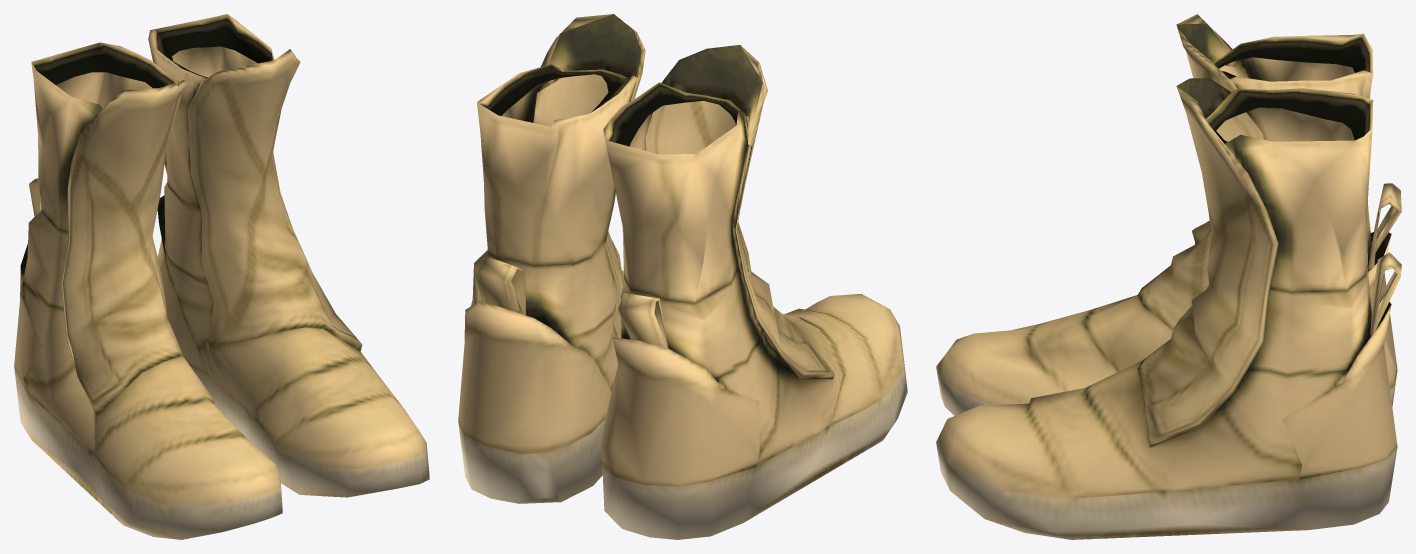
The model's file is ClothBoots_Ground.fbx.
3 renders of one model, left to right at view 1: azimuth 30°, elevation 25°; view 2: azimuth 150°, elevation 25°; view 3: azimuth 270°, elevation 25°, orthographic. The views are drawn at different scales.
Parts seen in each view (by area): view 1: ClothBoots; view 2: ClothBoots; view 3: ClothBoots.
Boxes of the visible parts, x1,y1,x2,y2 form: ClothBoots: (14, 14, 429, 539); ClothBoots: (458, 14, 907, 539); ClothBoots: (936, 14, 1401, 539).
Size of the model in its own units: 0.125 by 0.1597 by 0.1643.
